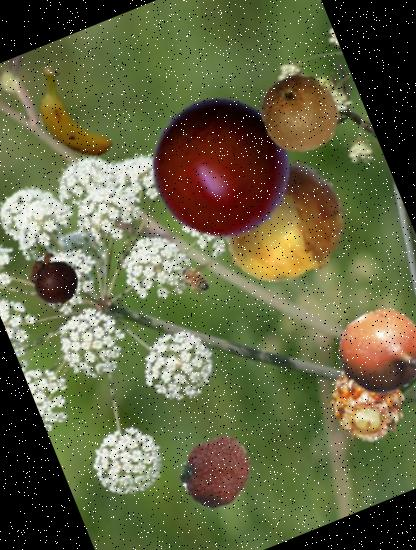Banana: (2, 46, 140, 184)
Granadilla: (322, 293, 416, 419)
Kiwi: (247, 61, 352, 166)
Mangostan: (20, 246, 86, 312)
Onion: (202, 143, 369, 310)
Pineapple: (311, 341, 416, 457)
Strawberry: (171, 426, 265, 520)
Tamarillo: (129, 74, 314, 260)
